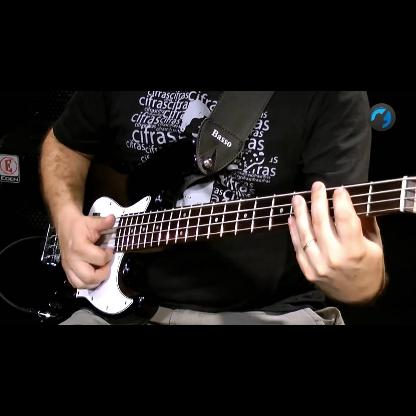bass: (6, 134, 416, 326)
